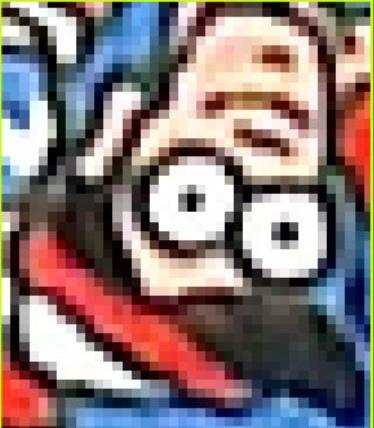waldos: (11, 5, 365, 425)
